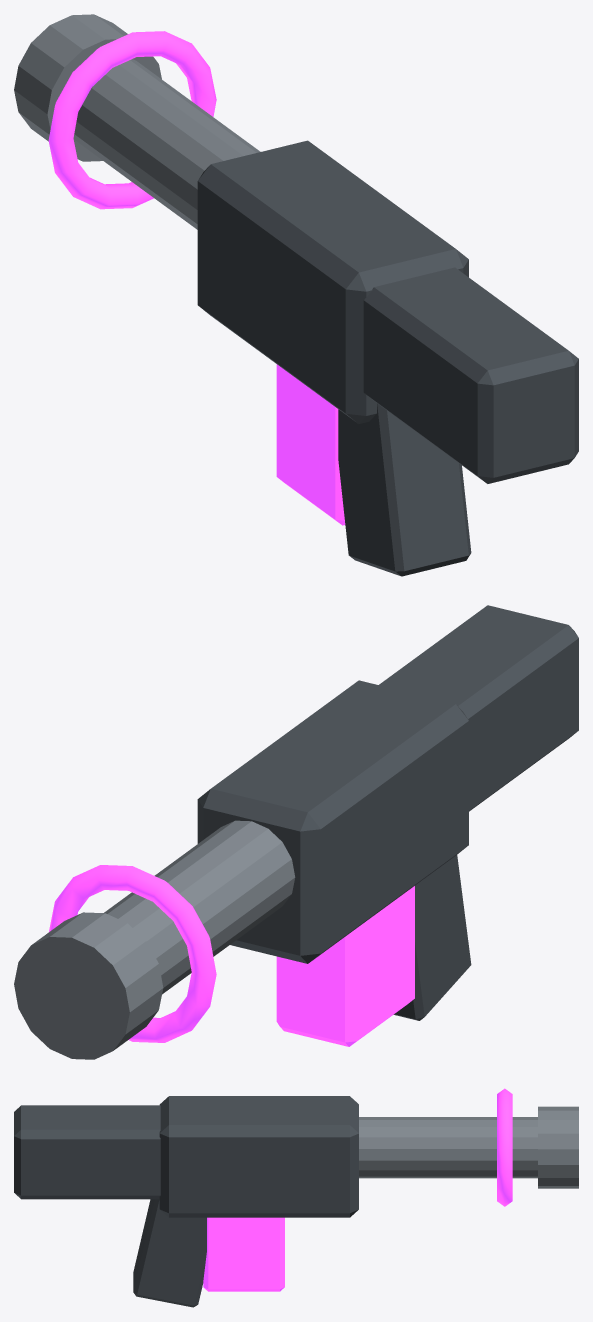
The model's file is WPN_PlasmaCannon_A_FP_v01.glb.
The picture shows the model from 3 angles, top to bottom: view 1: azimuth 30°, elevation 25°; view 2: azimuth 150°, elevation 25°; view 3: azimuth 270°, elevation 25°; orthographic projection. The views are drawn at different scales.
Parts seen in each view (by area): view 1: MESH_Weapon, MESH_AcceleratorRing_A, MESH_EnergyCell; view 2: MESH_Weapon, MESH_EnergyCell, MESH_AcceleratorRing_A; view 3: MESH_Weapon, MESH_EnergyCell, MESH_AcceleratorRing_A.
Part boxes in pixels (x1=…): MESH_Weapon: x1=14, y1=14, x2=578, y2=576; MESH_AcceleratorRing_A: x1=48, y1=31, x2=216, y2=209; MESH_EnergyCell: x1=276, y1=364, x2=345, y2=525; MESH_Weapon: x1=14, y1=605, x2=578, y2=1059; MESH_EnergyCell: x1=276, y1=886, x2=414, y2=1046; MESH_AcceleratorRing_A: x1=49, y1=865, x2=216, y2=1042; MESH_Weapon: x1=14, y1=1096, x2=578, y2=1307; MESH_EnergyCell: x1=203, y1=1217, x2=284, y2=1291; MESH_AcceleratorRing_A: x1=497, y1=1088, x2=512, y2=1206.
Size of the model in its own units: 0.232 by 0.4402 by 1.1.
